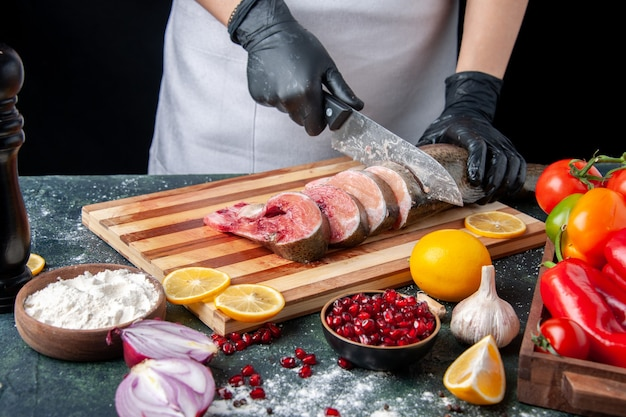knife: (322, 91, 468, 209)
